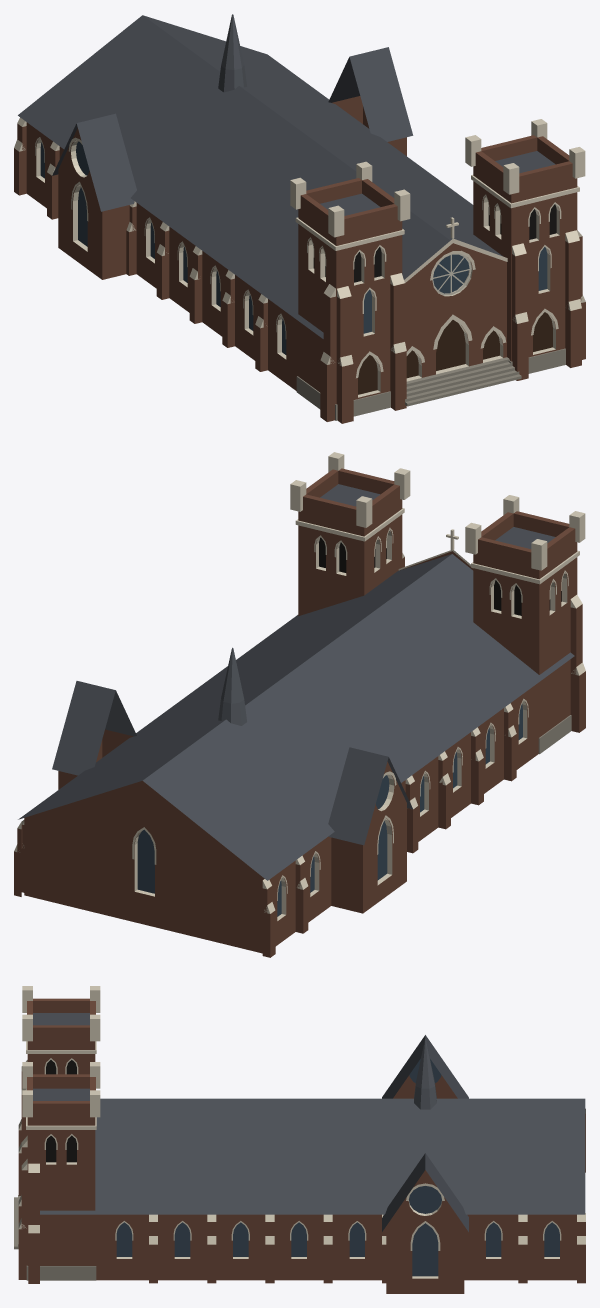
The model's file is st-edward-church.glb.
The picture shows the model from 3 angles, top to bottom: view 1: azimuth 30°, elevation 25°; view 2: azimuth 150°, elevation 25°; view 3: azimuth 270°, elevation 25°; orthographic projection. The views are drawn at different scales.
Parts seen in each view (by area): view 1: st_slate, st_brick, st_trim, st_base, st_stain, st_door, st_slate2, st_shadow; view 2: st_slate, st_brick, st_trim, st_stain, st_slate2, st_shadow; view 3: st_slate, st_brick, st_trim, st_stain, st_base, st_slate2, st_shadow.
Part boxes in pixels (box(x1,y1,x2,y2)): st_slate: box(18, 15, 555, 338); st_brick: box(14, 96, 585, 423); st_trim: box(14, 117, 585, 397); st_base: box(296, 348, 565, 420); st_stain: box(40, 141, 547, 354); st_door: box(358, 312, 552, 394); st_slate2: box(218, 14, 246, 92); st_shadow: box(313, 204, 556, 282); st_slate: box(18, 484, 574, 880); st_brick: box(14, 468, 585, 957); st_trim: box(14, 452, 585, 920); st_stain: box(137, 704, 522, 916); st_slate2: box(218, 647, 246, 725); st_shadow: box(319, 537, 561, 615); st_slate: box(33, 1013, 585, 1231); st_brick: box(18, 998, 585, 1293); st_trim: box(18, 986, 585, 1278); st_stain: box(116, 1058, 559, 1276); st_base: box(14, 1195, 96, 1280); st_slate2: box(414, 1039, 436, 1109); st_shadow: box(46, 1060, 76, 1162).
Size of the model in its own units: 24.6 by 16.02 by 44.
